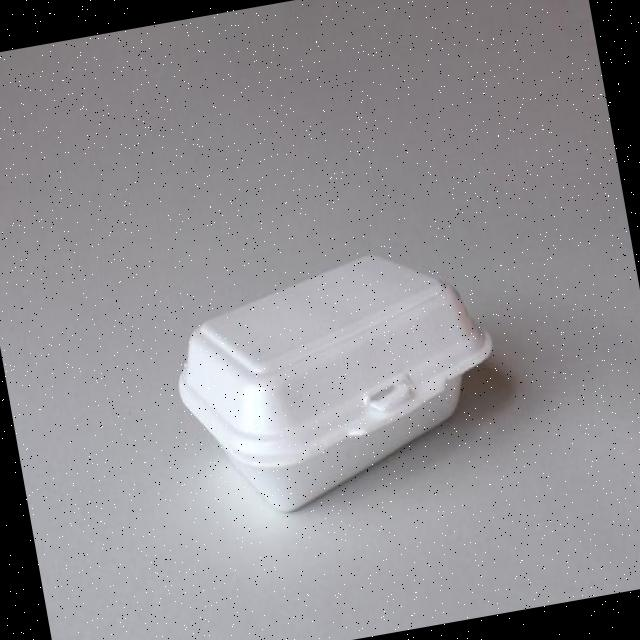styrofoam: (159, 232, 515, 528)
